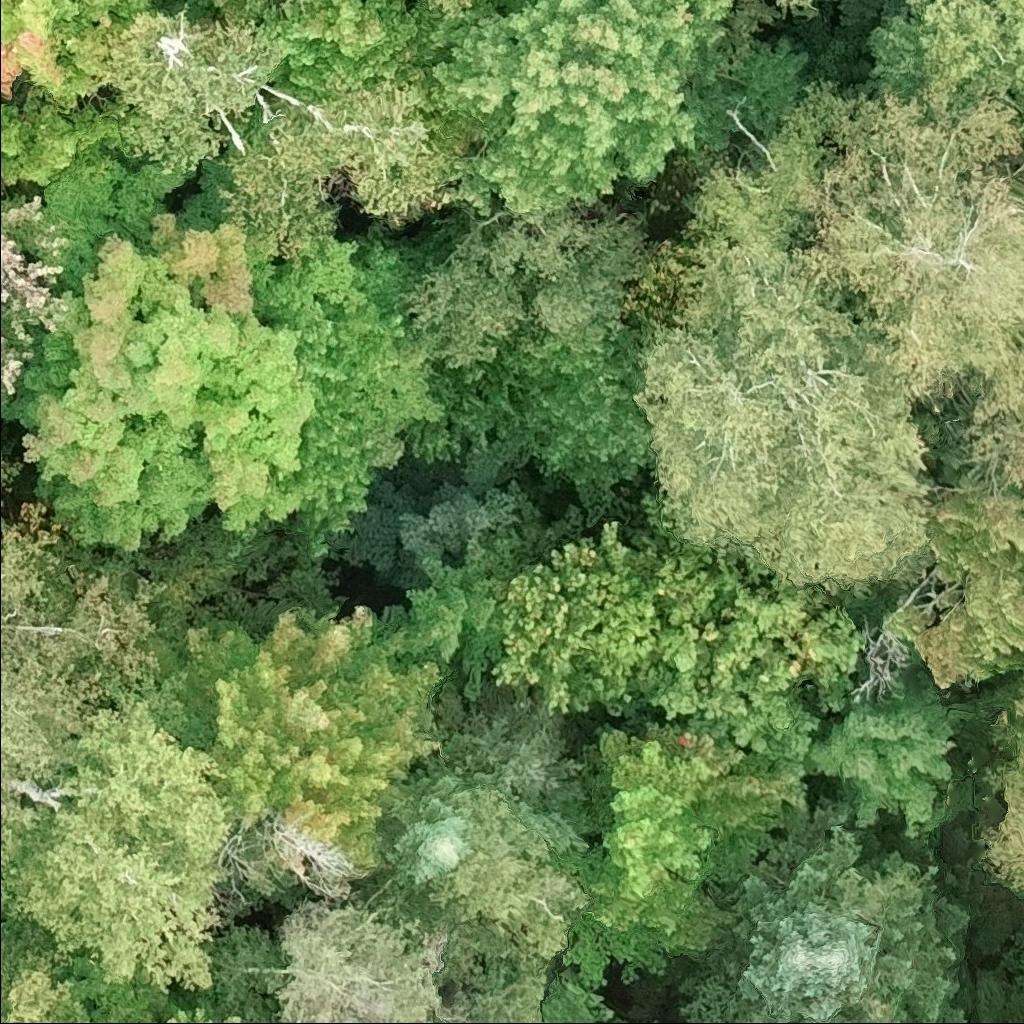crown: (681, 79, 1023, 483), (630, 235, 943, 600), (0, 213, 319, 559), (0, 660, 238, 998), (182, 599, 447, 869), (425, 0, 747, 218), (677, 792, 975, 1023), (0, 502, 173, 821), (584, 710, 810, 949), (182, 77, 469, 259), (632, 539, 868, 760), (191, 896, 554, 1023), (399, 206, 650, 387), (63, 7, 284, 176), (489, 517, 667, 716), (886, 470, 1023, 690), (0, 0, 153, 193), (804, 685, 969, 837), (262, 0, 435, 113), (396, 448, 540, 582), (399, 537, 518, 696), (364, 757, 477, 917), (867, 0, 1023, 113), (0, 918, 166, 1023), (0, 190, 72, 404), (975, 767, 1023, 898), (400, 0, 482, 28), (994, 689, 1023, 768), (152, 999, 245, 1023), (766, 0, 833, 16), (0, 445, 24, 486), (1023, 121, 1023, 127)
